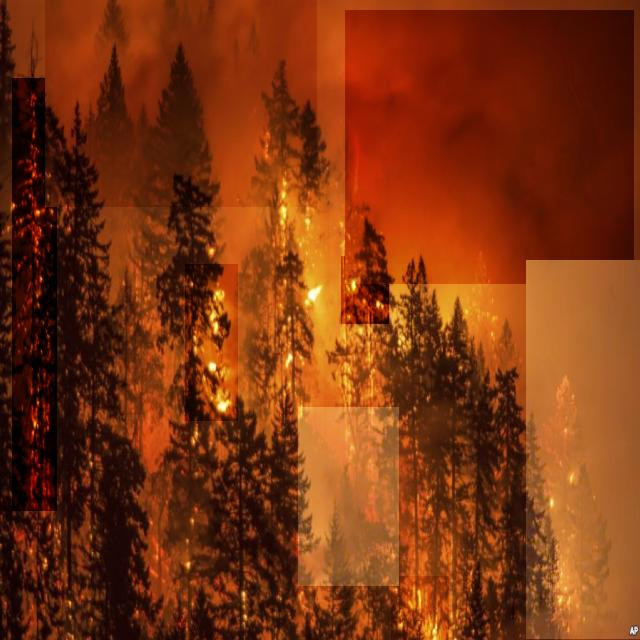Fire: (12, 78, 57, 511), (185, 264, 238, 421), (271, 171, 330, 310), (391, 576, 449, 640), (341, 256, 389, 324)
Smoke: (345, 10, 634, 284), (45, 0, 317, 207), (526, 260, 640, 639), (298, 407, 399, 586)
